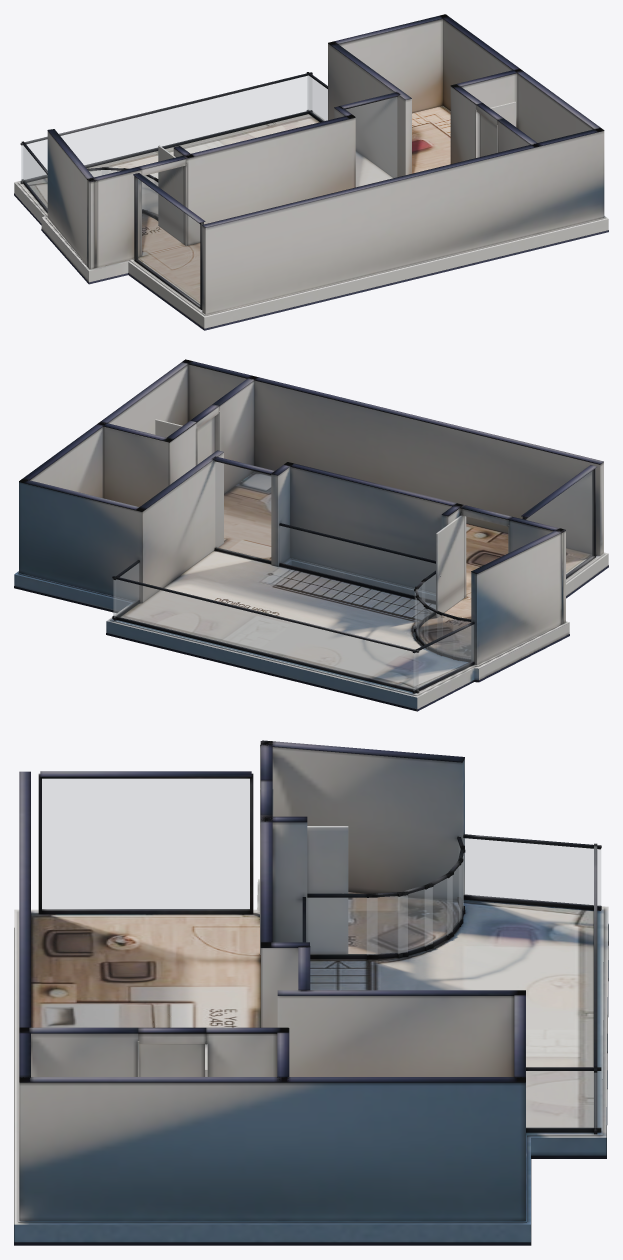
The picture shows the model from 3 angles, top to bottom: view 1: azimuth 30°, elevation 25°; view 2: azimuth 150°, elevation 25°; view 3: azimuth 270°, elevation 25°; orthographic projection. The views are drawn at different scales.
Visible parts, largest first — view 1: plan, railg0_m, glass0_m, glass1_m, railg10_m, railg2_m; view 2: plan, railg0_m, railg1_m, glass1_m, glass0_m, railg10_m, railg2_m, railg7_m, railg8_m; view 3: plan, glass0_m, railg10_m, railg2_m, railg3_m, railg4_m, railg5_m, railg6_m, railg7_m.
Boxes of the visible parts, bbox=[...] form: plan: bbox=[14, 14, 608, 330]; railg0_m: bbox=[21, 76, 311, 180]; glass0_m: bbox=[137, 178, 199, 305]; glass1_m: bbox=[346, 97, 396, 186]; railg10_m: bbox=[23, 146, 47, 208]; railg2_m: bbox=[308, 76, 327, 120]; plan: bbox=[14, 359, 608, 711]; railg0_m: bbox=[113, 579, 418, 689]; railg1_m: bbox=[280, 526, 435, 600]; glass1_m: bbox=[215, 462, 270, 560]; glass0_m: bbox=[526, 470, 593, 575]; railg10_m: bbox=[413, 625, 473, 690]; railg2_m: bbox=[114, 563, 138, 617]; railg7_m: bbox=[424, 607, 442, 652]; railg8_m: bbox=[437, 614, 459, 655]; plan: bbox=[14, 740, 608, 1245]; glass0_m: bbox=[42, 779, 249, 909]; railg10_m: bbox=[464, 838, 600, 906]; railg2_m: bbox=[526, 1071, 600, 1127]; railg3_m: bbox=[307, 898, 377, 954]; railg4_m: bbox=[367, 895, 407, 954]; railg5_m: bbox=[398, 887, 432, 953]; railg6_m: bbox=[424, 875, 452, 946]; railg7_m: bbox=[447, 863, 461, 935].
Bounding box in the file's own units: 12.03 × 2.62 × 8.76.
Materials: 2 (1 with a texture image).
